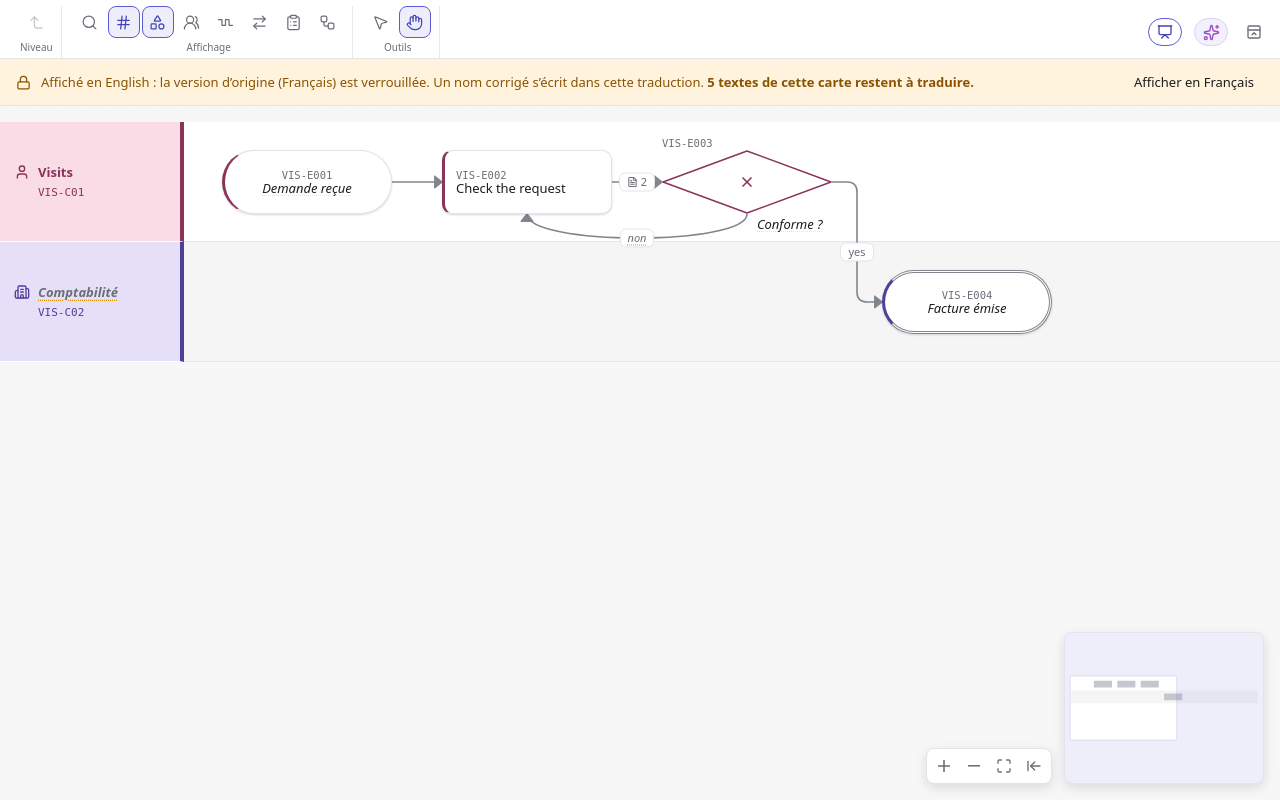
the head and the lines of the plan (ADR 112 point 5) › the names are those of the language the map is shown in, the words of the interface its own; the button closes the panel
The width and height of the screenshot is (1280, 800).
Click the button with test id "ribbon-plan".
click(294, 22)  # box [278, 6, 310, 38]
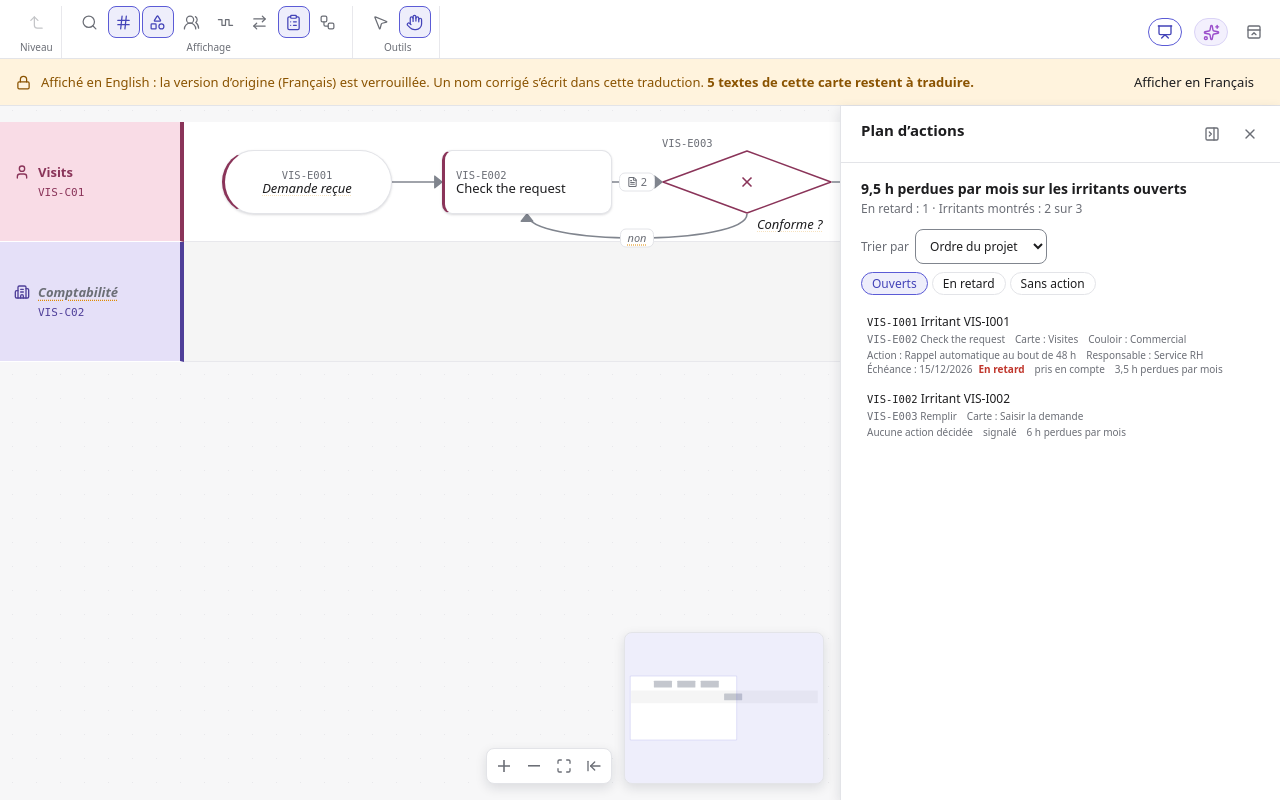
Check: the list item with test id "^plan-line-" shows "VIS-E002 Check the request", box [861, 307, 1260, 382]
Check: the list item with test id "^plan-line-" shows "pris en compte", box [861, 307, 1260, 382]
Click the button with test id "ribbon-plan".
click(294, 22)  # box [278, 6, 310, 38]
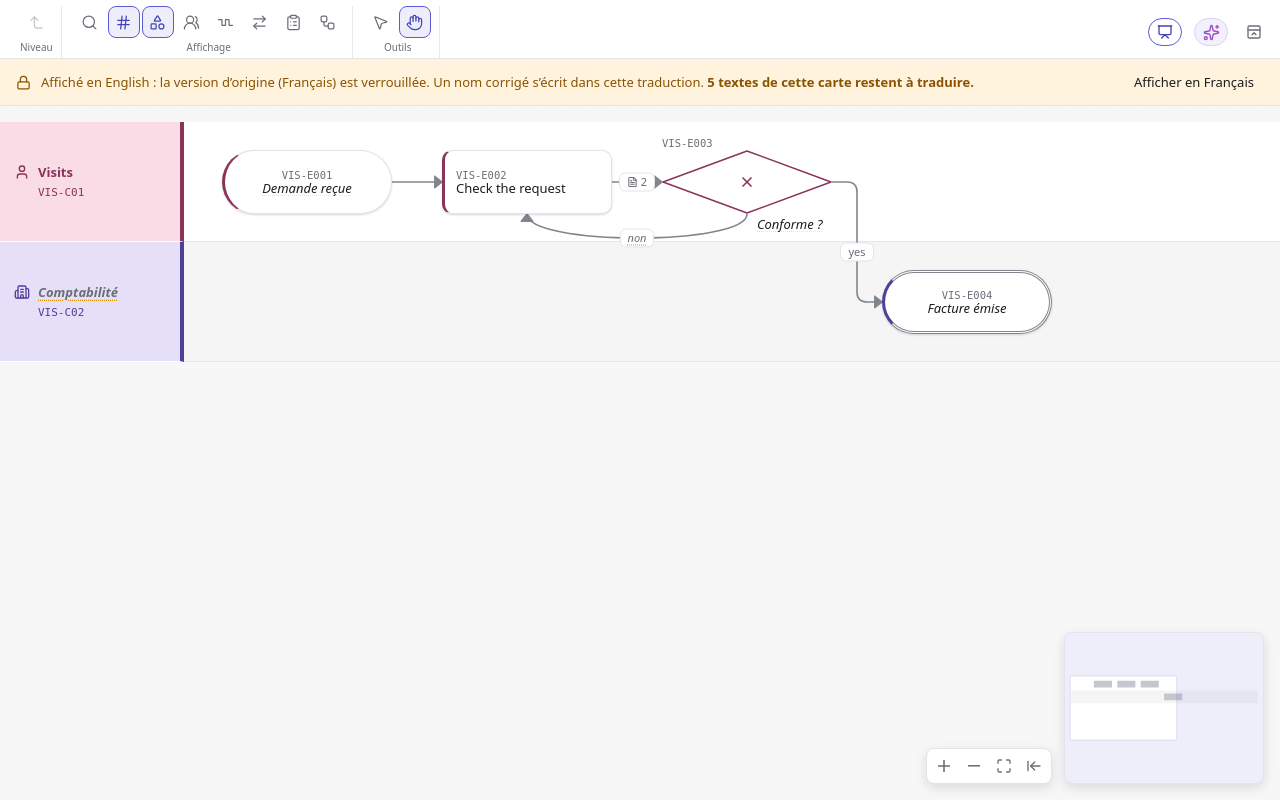
Check: the element with test id "plan-panel" is gone
